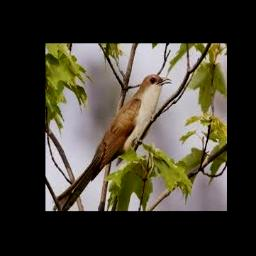Cuckoo: (52, 74, 172, 211)
